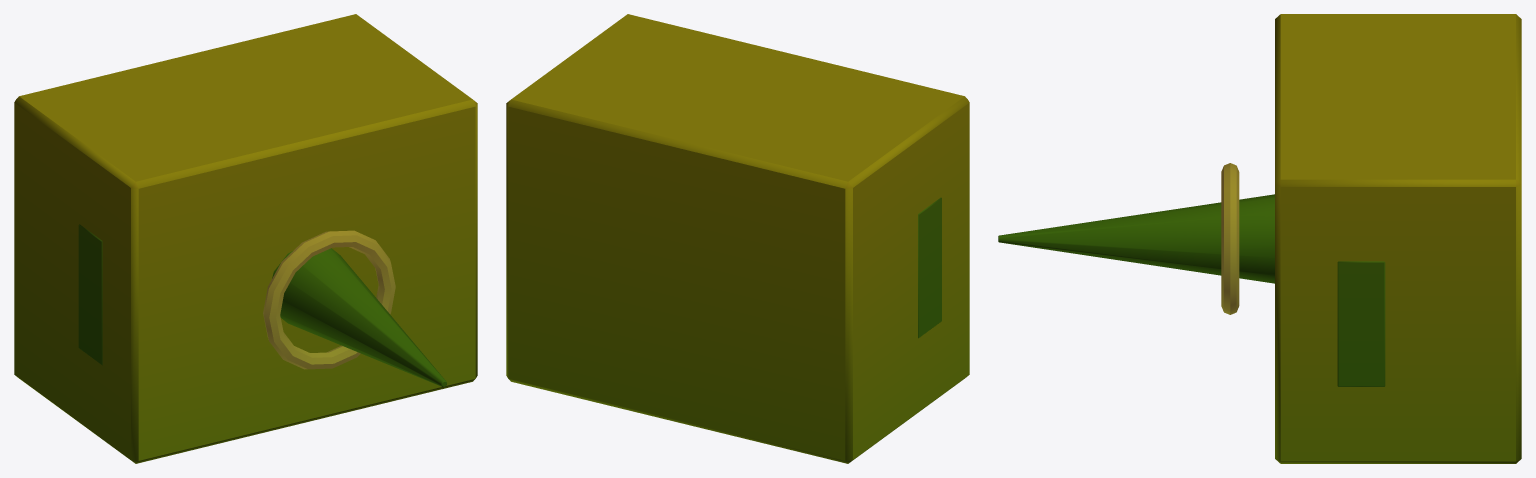
File: RCLModule_heavy_artillery_martian_iron_rust_sponsons.fbx
3 views of the same model, side by side, from view 1: azimuth 30°, elevation 25°; view 2: azimuth 150°, elevation 25°; view 3: azimuth 270°, elevation 25° (orthographic).
Visible parts, largest first — view 1: RCLModule_heavy_artillery_martian_iron_rust_sponsons_Batch_R (×3); view 2: RCLModule_heavy_artillery_martian_iron_rust_sponsons_Batch_R (×2); view 3: RCLModule_heavy_artillery_martian_iron_rust_sponsons_Batch_R (×3).
Part boxes in pixels (x1,y1,x2,y2): RCLModule_heavy_artillery_martian_iron_rust_sponsons_Batch_R (×3): (14,14,477,463); RCLModule_heavy_artillery_martian_iron_rust_sponsons_Batch_R (×2): (506,14,969,463); RCLModule_heavy_artillery_martian_iron_rust_sponsons_Batch_R (×3): (998,14,1521,463).
Size of the model in its own units: 36.16 by 28 by 46.7.
